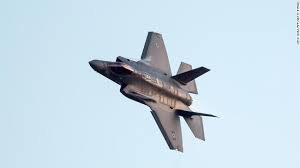fighter: (86, 30, 214, 155)
